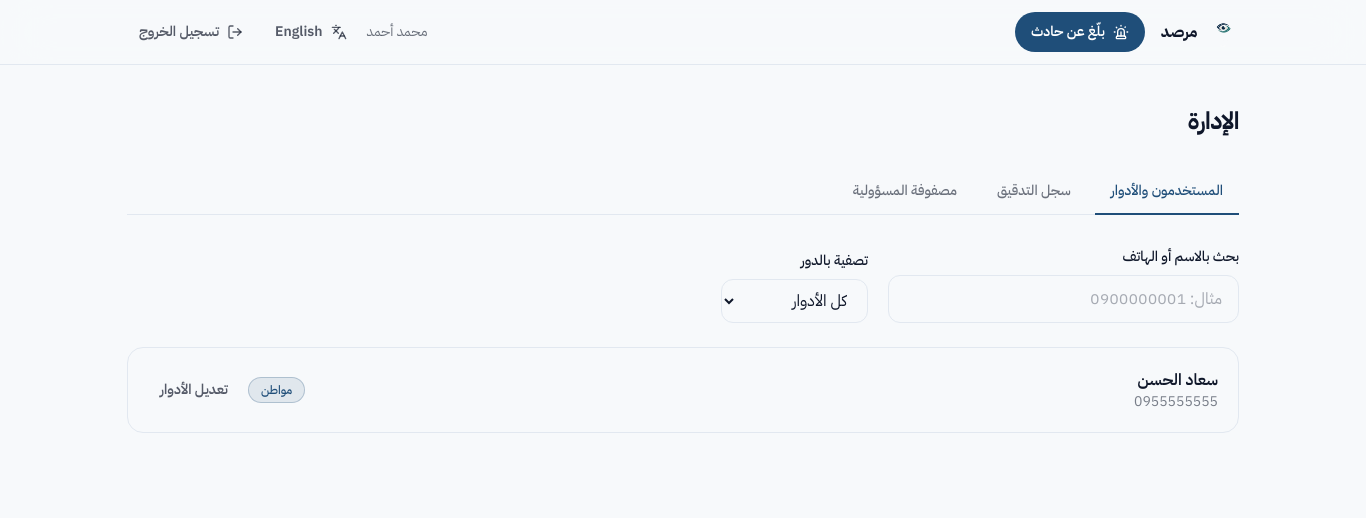
Test: the audit trail › shows entries to a super admin, naming the actor
The image size is (1366, 518).
Click the tab "سجل التدقيق": (1034, 192) [981, 169, 1087, 215]
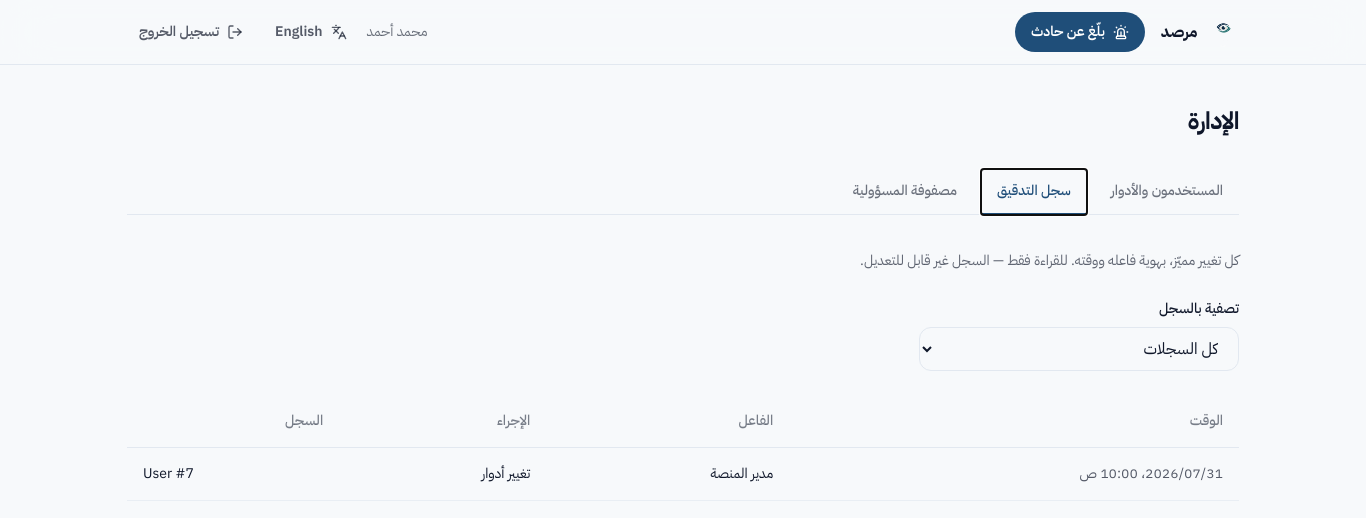
Check: the text "مدير المنصة" is shown, box [546, 448, 789, 500]
Check: the text "تغيير أدوار" is shown, box [339, 448, 546, 500]
